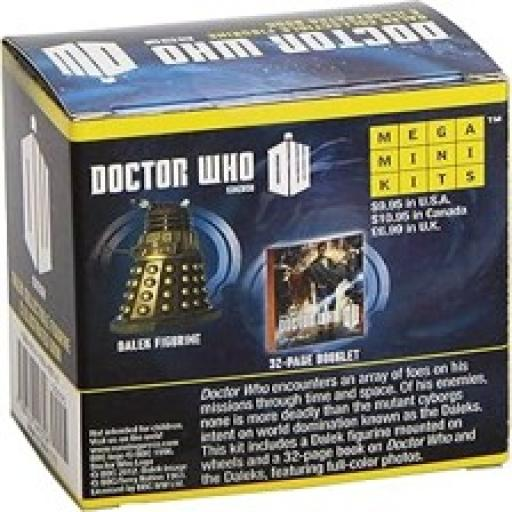dalek: (97, 196, 219, 333)
